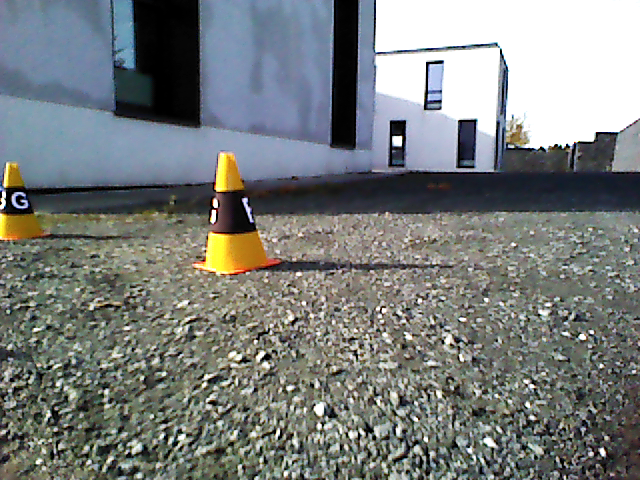yellowcone: (206, 152, 266, 267), (1, 163, 42, 236)
